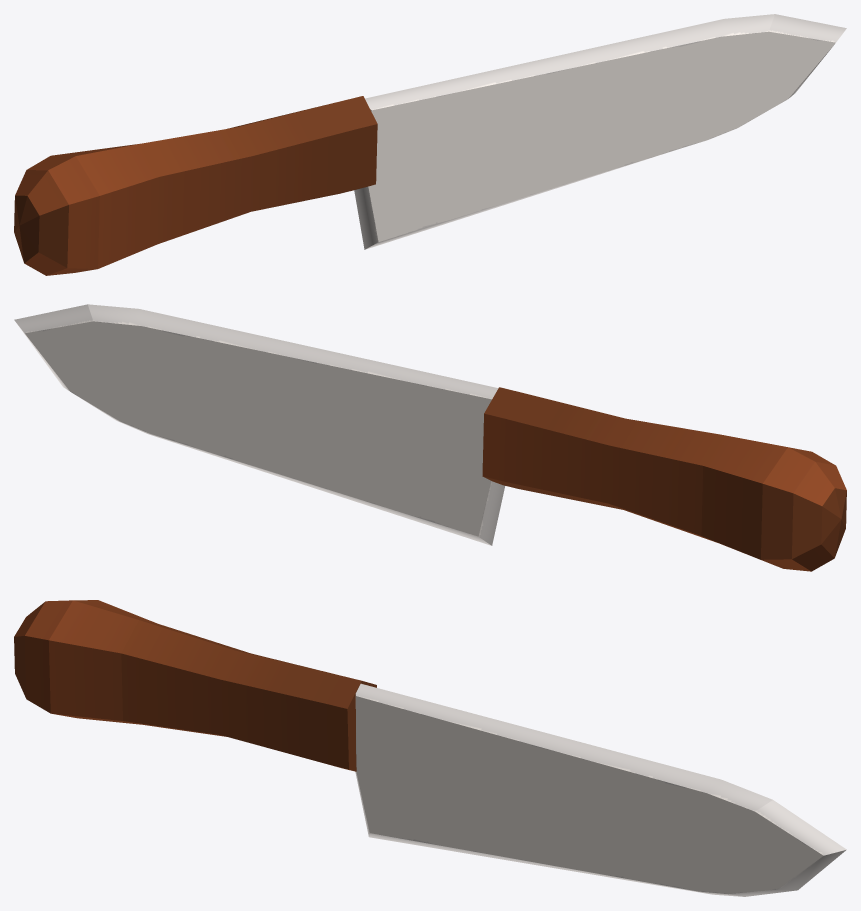
File: face_knife.fbx
3 renders of one model, top to bottom at view 1: azimuth 30°, elevation 25°; view 2: azimuth 150°, elevation 25°; view 3: azimuth 330°, elevation 25°, orthographic.
Parts seen in each view (by area): view 1: KnifeBlade_OBJ, KnifeHandle_OBJ; view 2: KnifeBlade_OBJ, KnifeHandle_OBJ; view 3: KnifeBlade_OBJ, KnifeHandle_OBJ.
Boxes of the visible parts, x1,y1,x2,y2 form: KnifeBlade_OBJ: (354,14,846,249); KnifeHandle_OBJ: (14,96,377,275); KnifeBlade_OBJ: (14,304,504,545); KnifeHandle_OBJ: (482,387,846,571); KnifeBlade_OBJ: (355,683,846,896); KnifeHandle_OBJ: (14,600,376,771).
Bounding box in the file's own units: 2.11 × 0.4077 × 0.2258.
